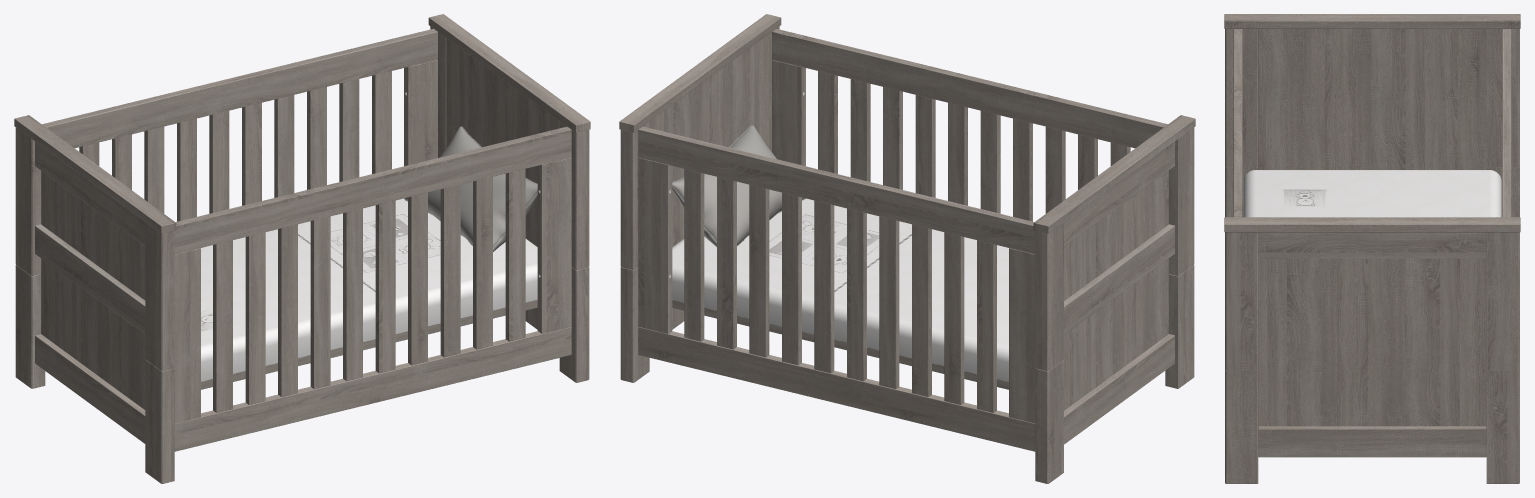
The model's file is BordeauxCot_Static_Regular_Ash_c.glb.
The picture shows the model from 3 angles, left to right: view 1: azimuth 30°, elevation 25°; view 2: azimuth 150°, elevation 25°; view 3: azimuth 270°, elevation 25°; orthographic projection.
Visible parts, largest first — view 1: Wood, Bedclothes; view 2: Wood, Bedclothes; view 3: Wood, Bedclothes.
Boxes of the visible parts, <box> form: Wood: <box>14,14,590,483</box>; Bedclothes: <box>201,126,537,381</box>; Wood: <box>619,14,1195,483</box>; Bedclothes: <box>672,125,1008,381</box>; Wood: <box>1224,14,1520,483</box>; Bedclothes: <box>1243,170,1501,217</box>.
Bounding box in the file's own units: 1.43 × 0.825 × 0.852.
3 materials, 2 textured.
